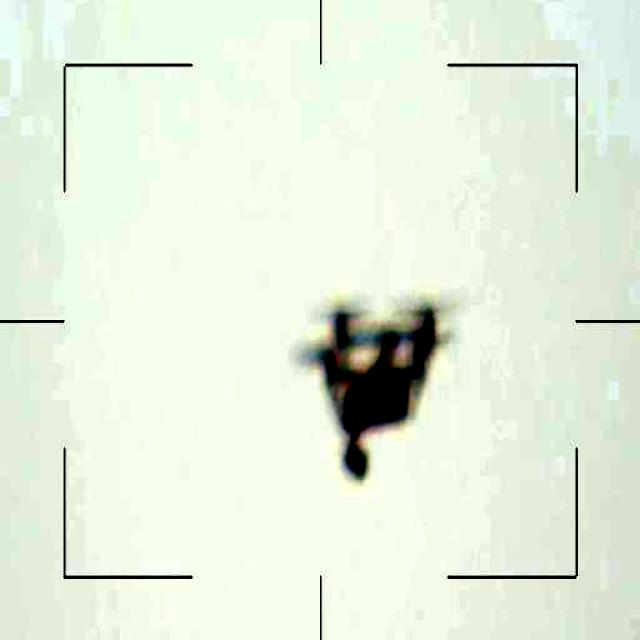bird: (328, 295, 481, 481)
